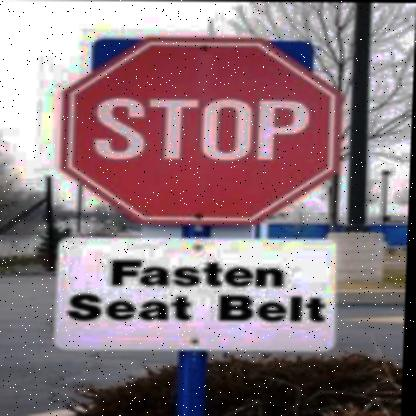Stop Sign: (55, 35, 347, 228)
